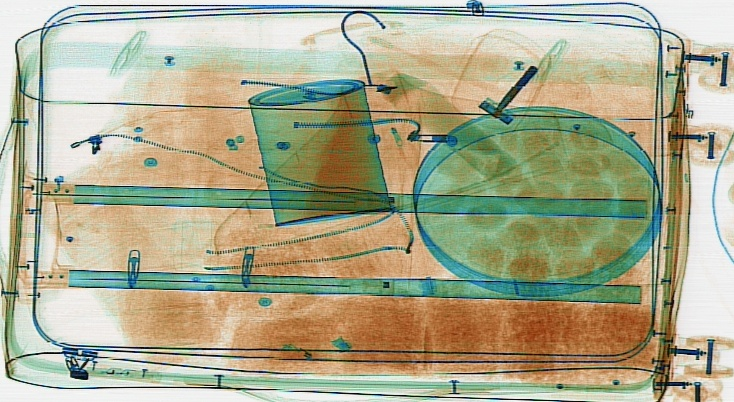knife: (475, 63, 538, 126)
